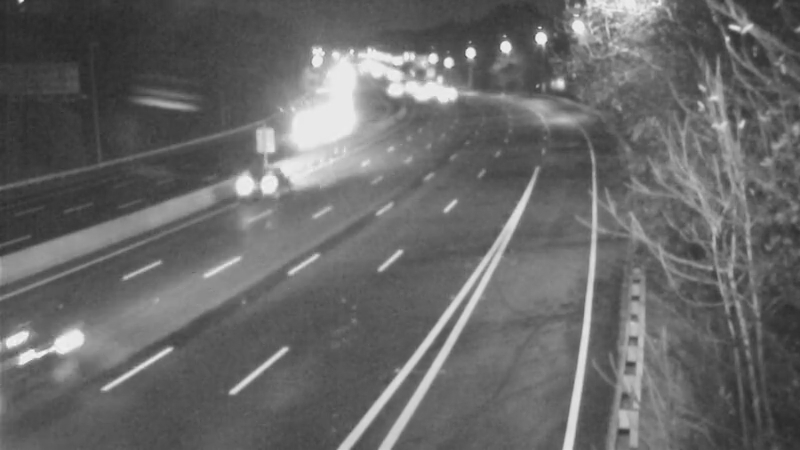vehicle: (1, 310, 90, 420), (227, 130, 307, 210), (419, 66, 469, 116), (280, 105, 330, 155)
